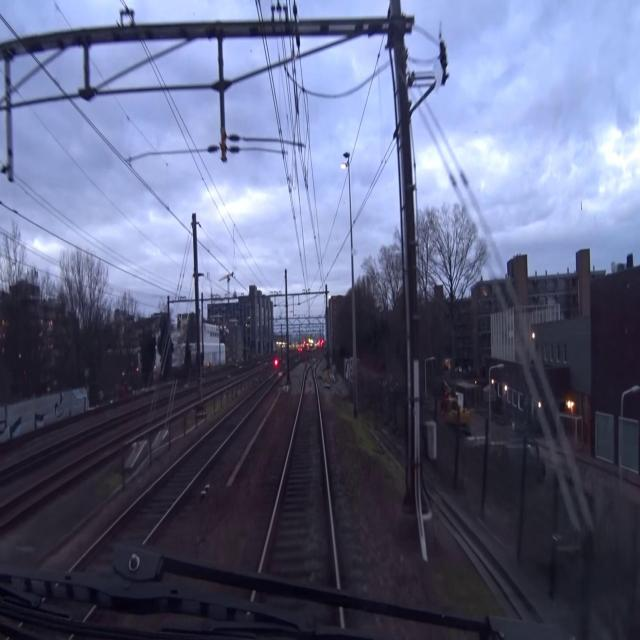rail-track: (263, 369, 335, 580)
